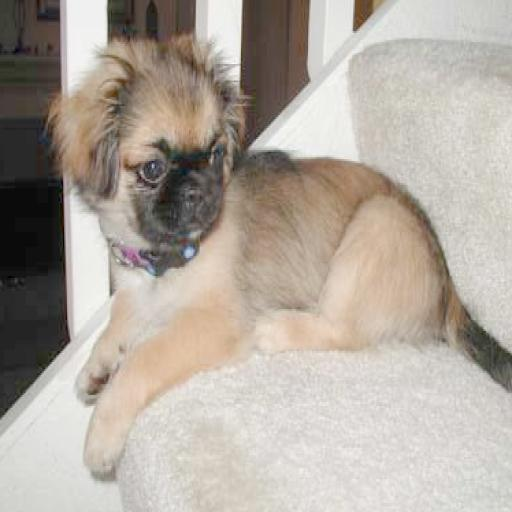dog_face: (53, 50, 254, 246)
